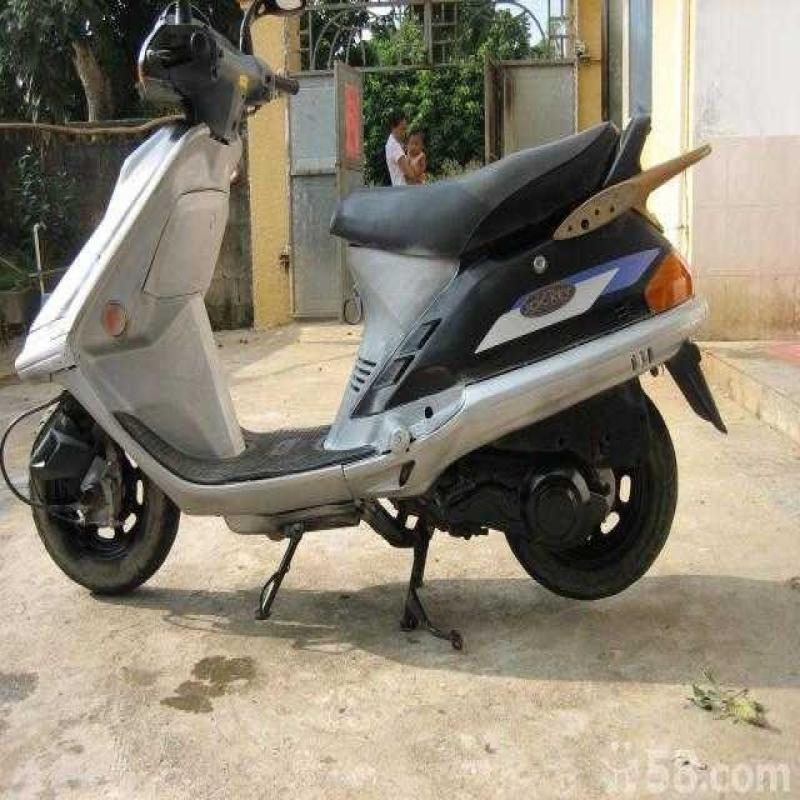bike: (17, 9, 738, 628)
